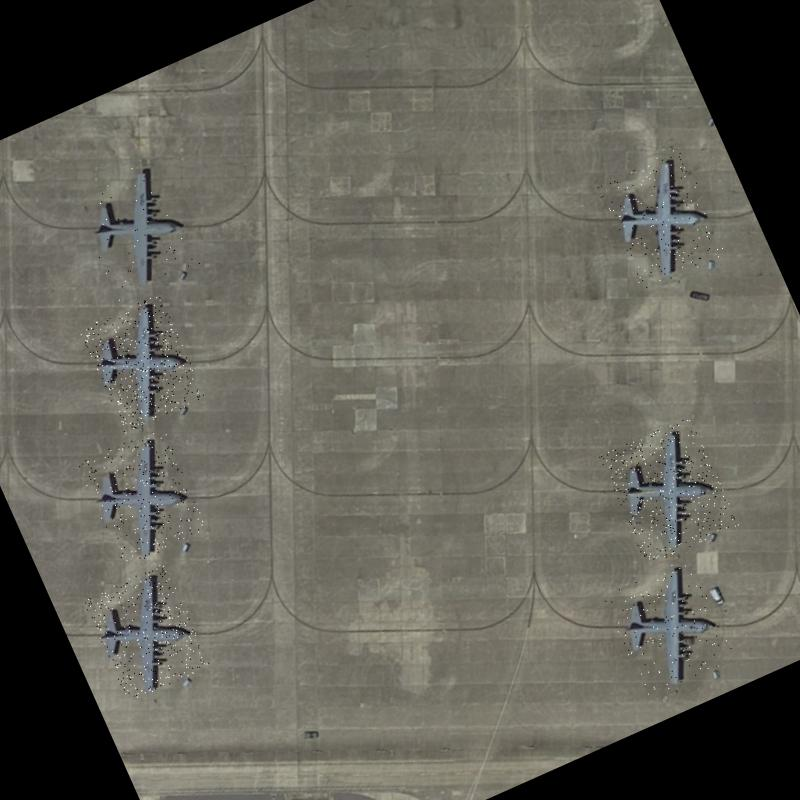A2: (598, 415, 739, 566), (596, 146, 728, 292), (602, 556, 736, 698), (76, 425, 209, 568), (71, 158, 201, 301), (82, 562, 212, 702), (78, 293, 206, 434)
